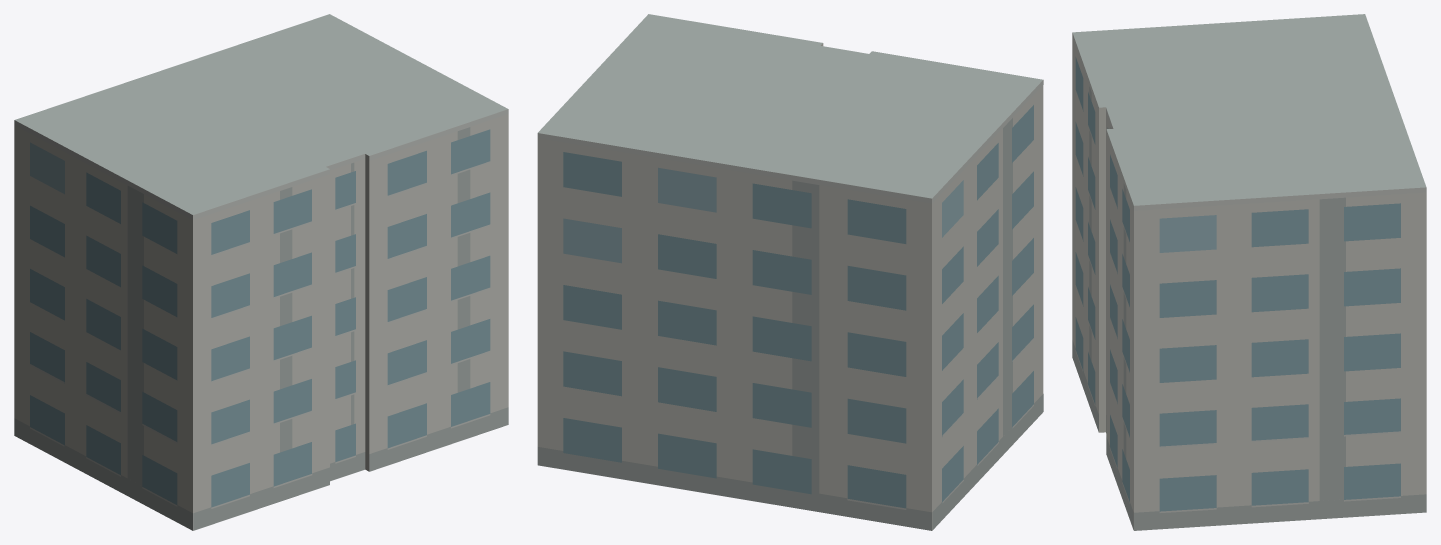
Rendered from survey-upis-32952752.glb.
3 renders of one model, left to right at view 1: azimuth 30°, elevation 25°; view 2: azimuth 150°, elevation 25°; view 3: azimuth 270°, elevation 25°, orthographic. The views are drawn at different scales.
Parts seen in each view (by area): view 1: survey-upis-32952752.tmp; view 2: survey-upis-32952752.tmp; view 3: survey-upis-32952752.tmp.
Boxes of the visible parts, bbox=[...] form: survey-upis-32952752.tmp: bbox=[14, 14, 508, 530]; survey-upis-32952752.tmp: bbox=[537, 14, 1043, 530]; survey-upis-32952752.tmp: bbox=[1072, 14, 1426, 530].
Bounding box in the file's own units: 19.31 × 15.25 × 15.07.
